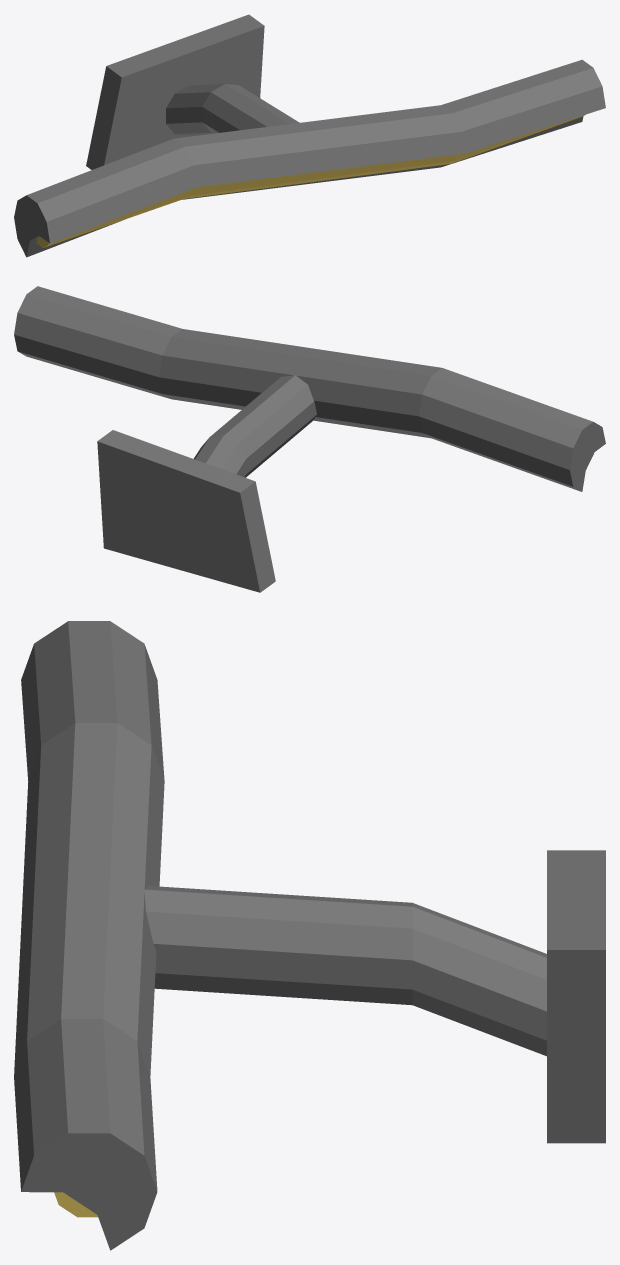
File: LamparaCuadro.fbx
3 renders of one model, top to bottom at view 1: azimuth 30°, elevation 25°; view 2: azimuth 150°, elevation 25°; view 3: azimuth 270°, elevation 25°, orthographic. The views are drawn at different scales.
Parts seen in each view (by area): view 1: Cylinder, Cylinder.002; view 2: Cylinder; view 3: Cylinder.
Part boxes in pixels (x1,y1,x2,y2): Cylinder: (14,14,605,257); Cylinder.002: (36,114,585,247); Cylinder: (14,286,605,592); Cylinder: (14,621,605,1250).
Size of the model in its own units: 47.87 by 10.88 by 23.38.
